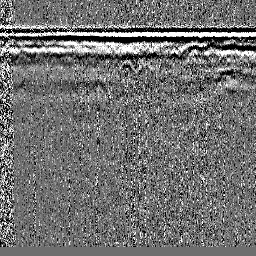cavity: (117, 58, 135, 73)
